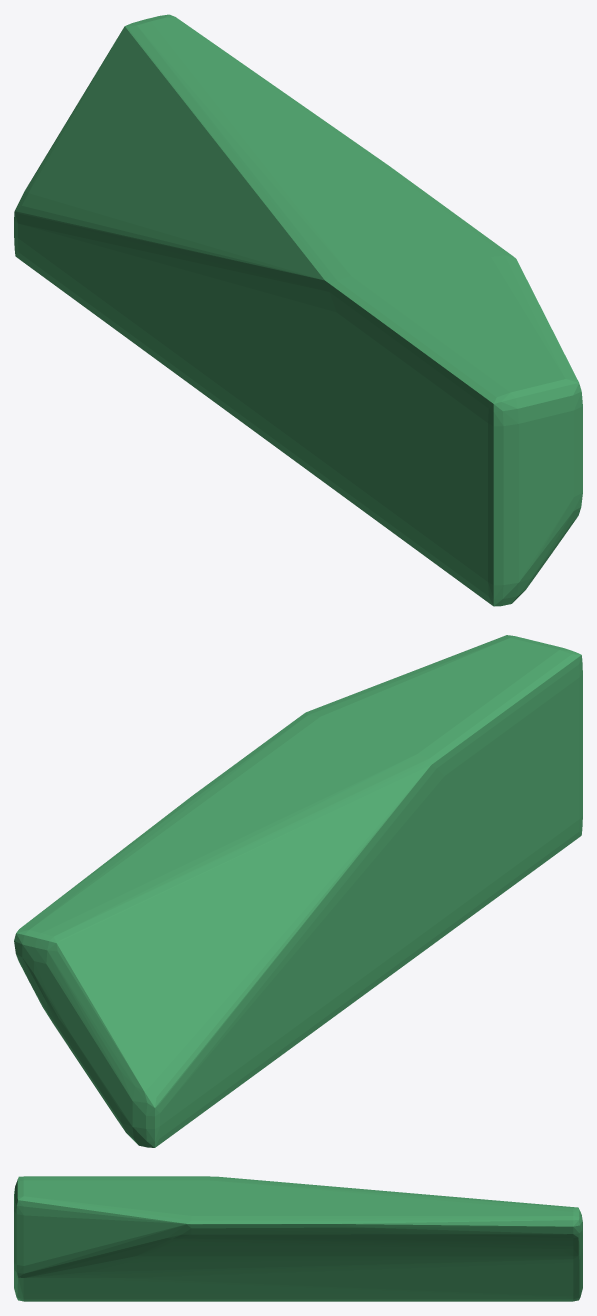
File: right_shoulder_roll_link_part_3.obj
The picture shows the model from 3 angles, top to bottom: view 1: azimuth 30°, elevation 25°; view 2: azimuth 150°, elevation 25°; view 3: azimuth 270°, elevation 25°; orthographic projection. The views are drawn at different scales.
Bounding box in the file's own units: 0.00877 × 0.0104 × 0.0442.
